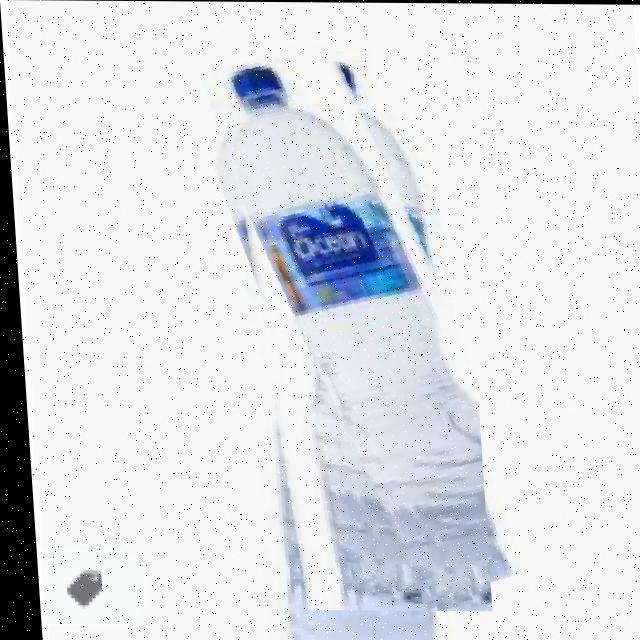plasticbottlecap: (215, 34, 484, 611)
